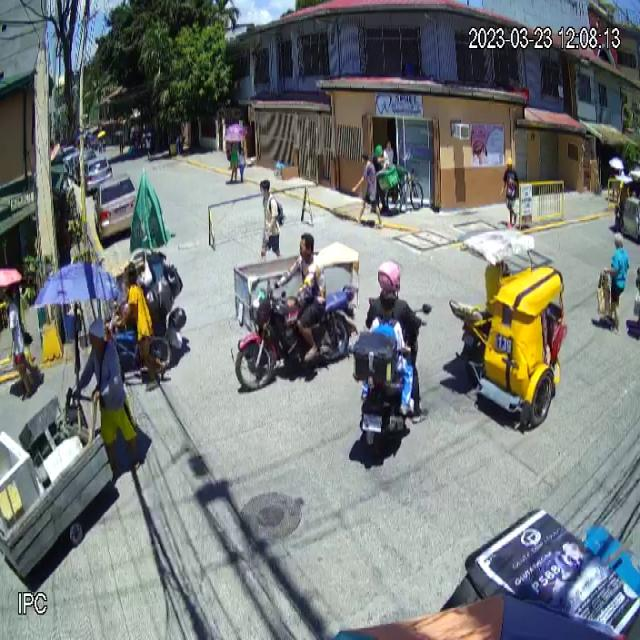Car: (93, 173, 139, 246)
Motorcycle: (235, 278, 359, 391), (351, 294, 432, 451)
Tricycle: (450, 223, 571, 426)
